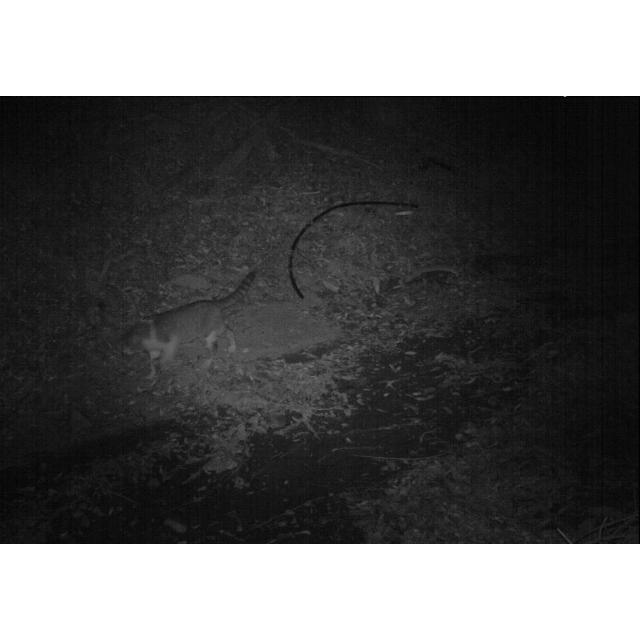animals: (133, 272, 255, 376)
